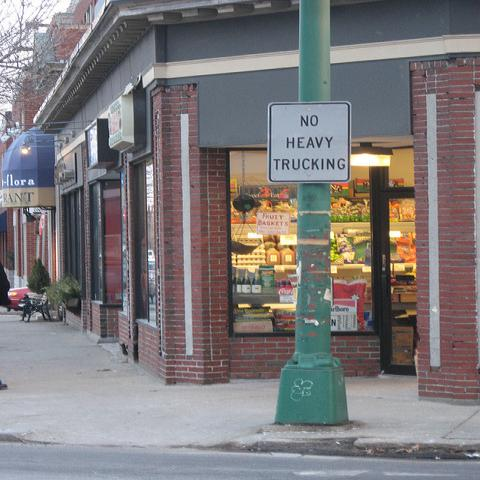car: (4, 286, 35, 311)
